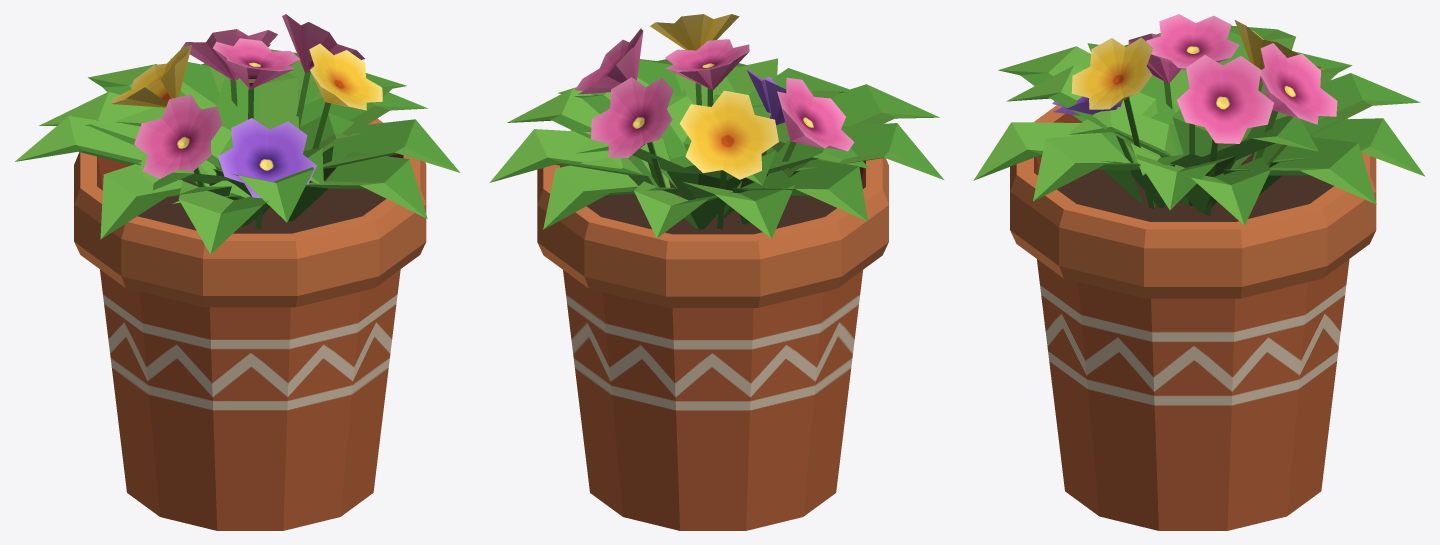
The model's file is FMS_Deco_Pot_Large.fbx.
3 renders of one model, left to right at view 1: azimuth 30°, elevation 25°; view 2: azimuth 150°, elevation 25°; view 3: azimuth 270°, elevation 25°, orthographic. The views are drawn at different scales.
Visible parts, largest first — view 1: item_decor_pot_large; view 2: item_decor_pot_large; view 3: item_decor_pot_large.
Part boxes in pixels (<box>): item_decor_pot_large: <box>15,14,460,530</box>; item_decor_pot_large: <box>489,14,943,530</box>; item_decor_pot_large: <box>973,14,1425,530</box>.
Size of the model in its own units: 0.3828 by 0.4253 by 0.3819.
